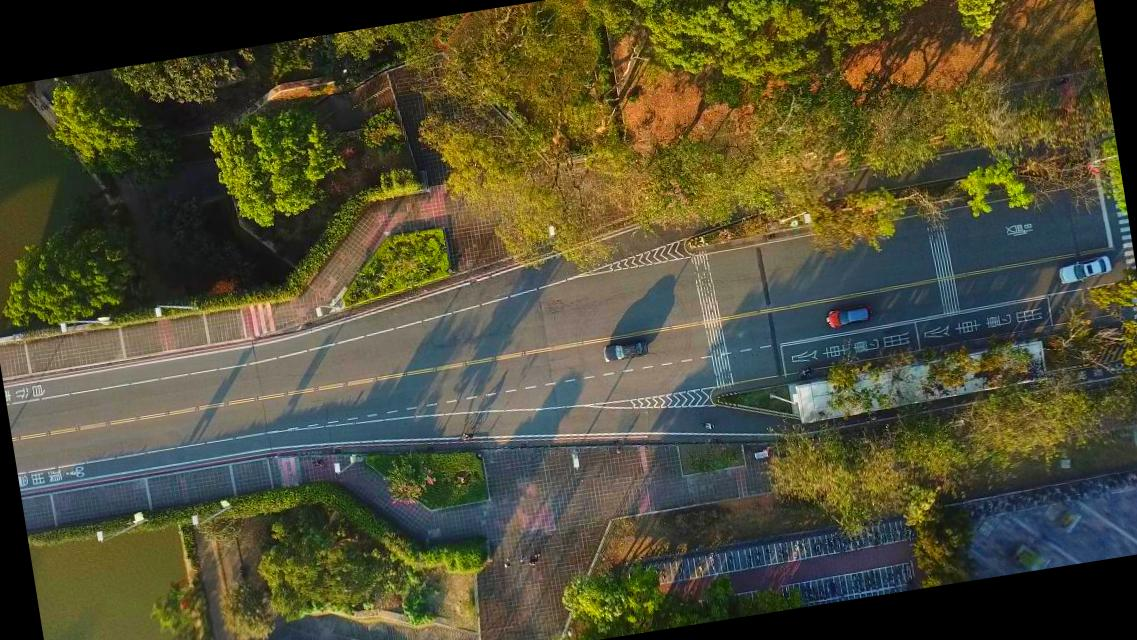vehicle: (1057, 253, 1114, 284), (824, 304, 874, 328), (600, 338, 650, 362)
